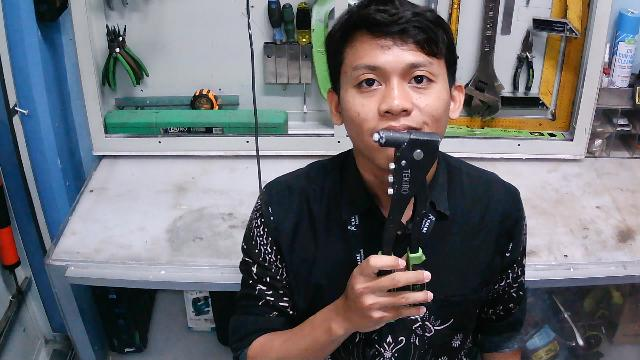tang_rivet: (369, 127, 444, 323)
